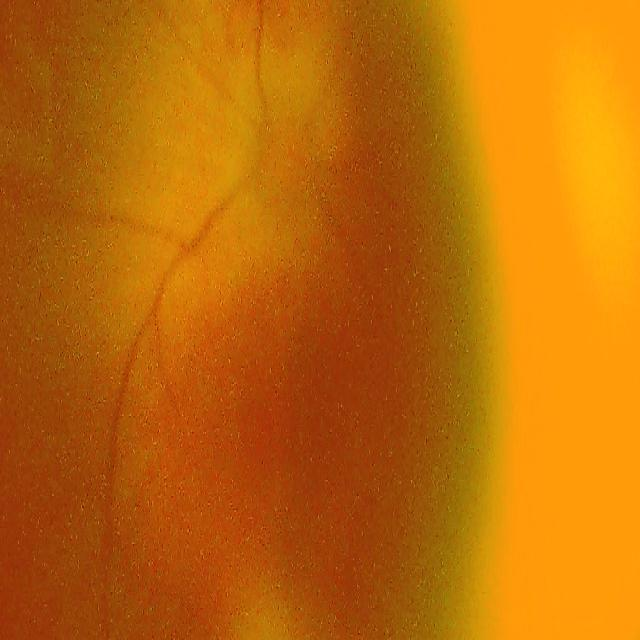optic-nerve: (232, 73, 346, 254)
